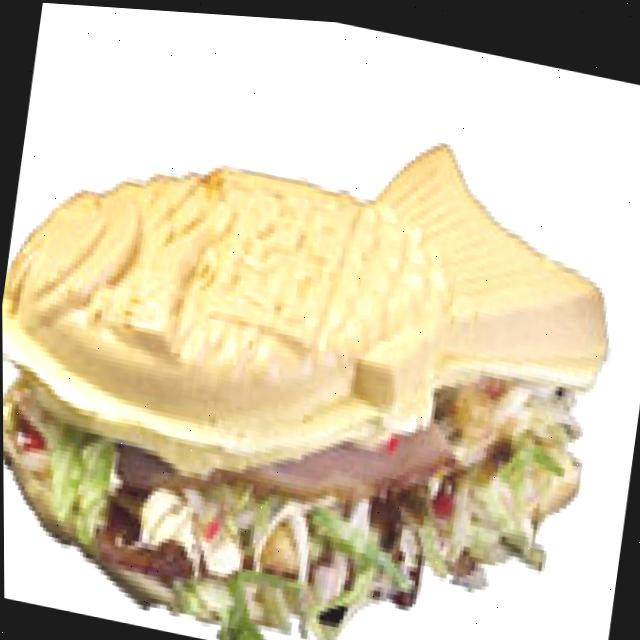熟制海鲜: (0, 42, 634, 640)
